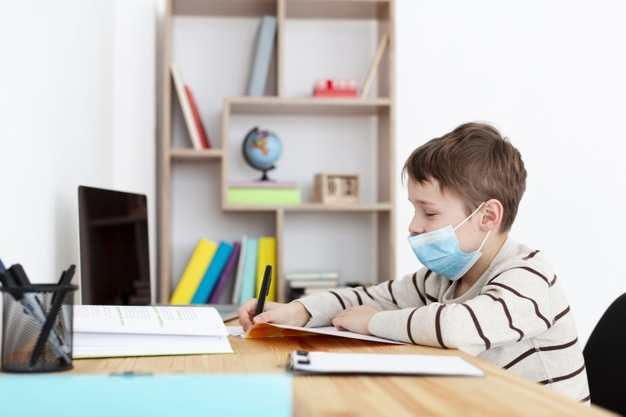with_incorrect_mask: (400, 121, 535, 274)
